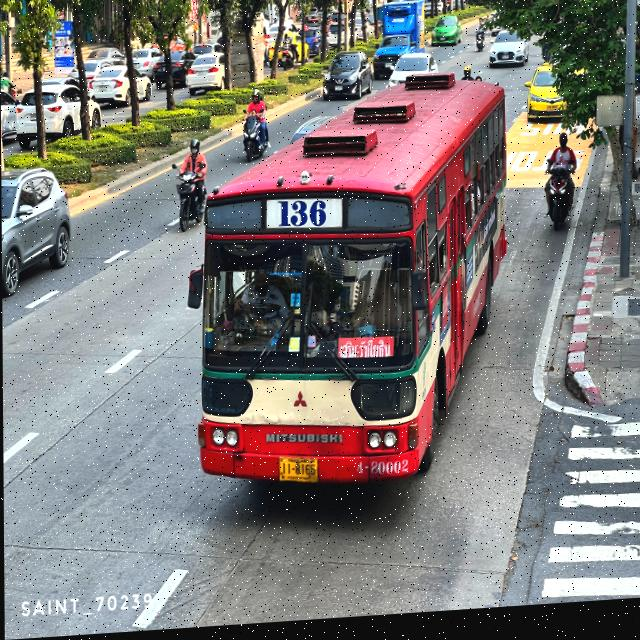BMTA-bus: (186, 71, 511, 520)
Bus-Line-Number: (259, 197, 345, 239)
Destination-Sign-Extra-Bus: (337, 340, 394, 365)
